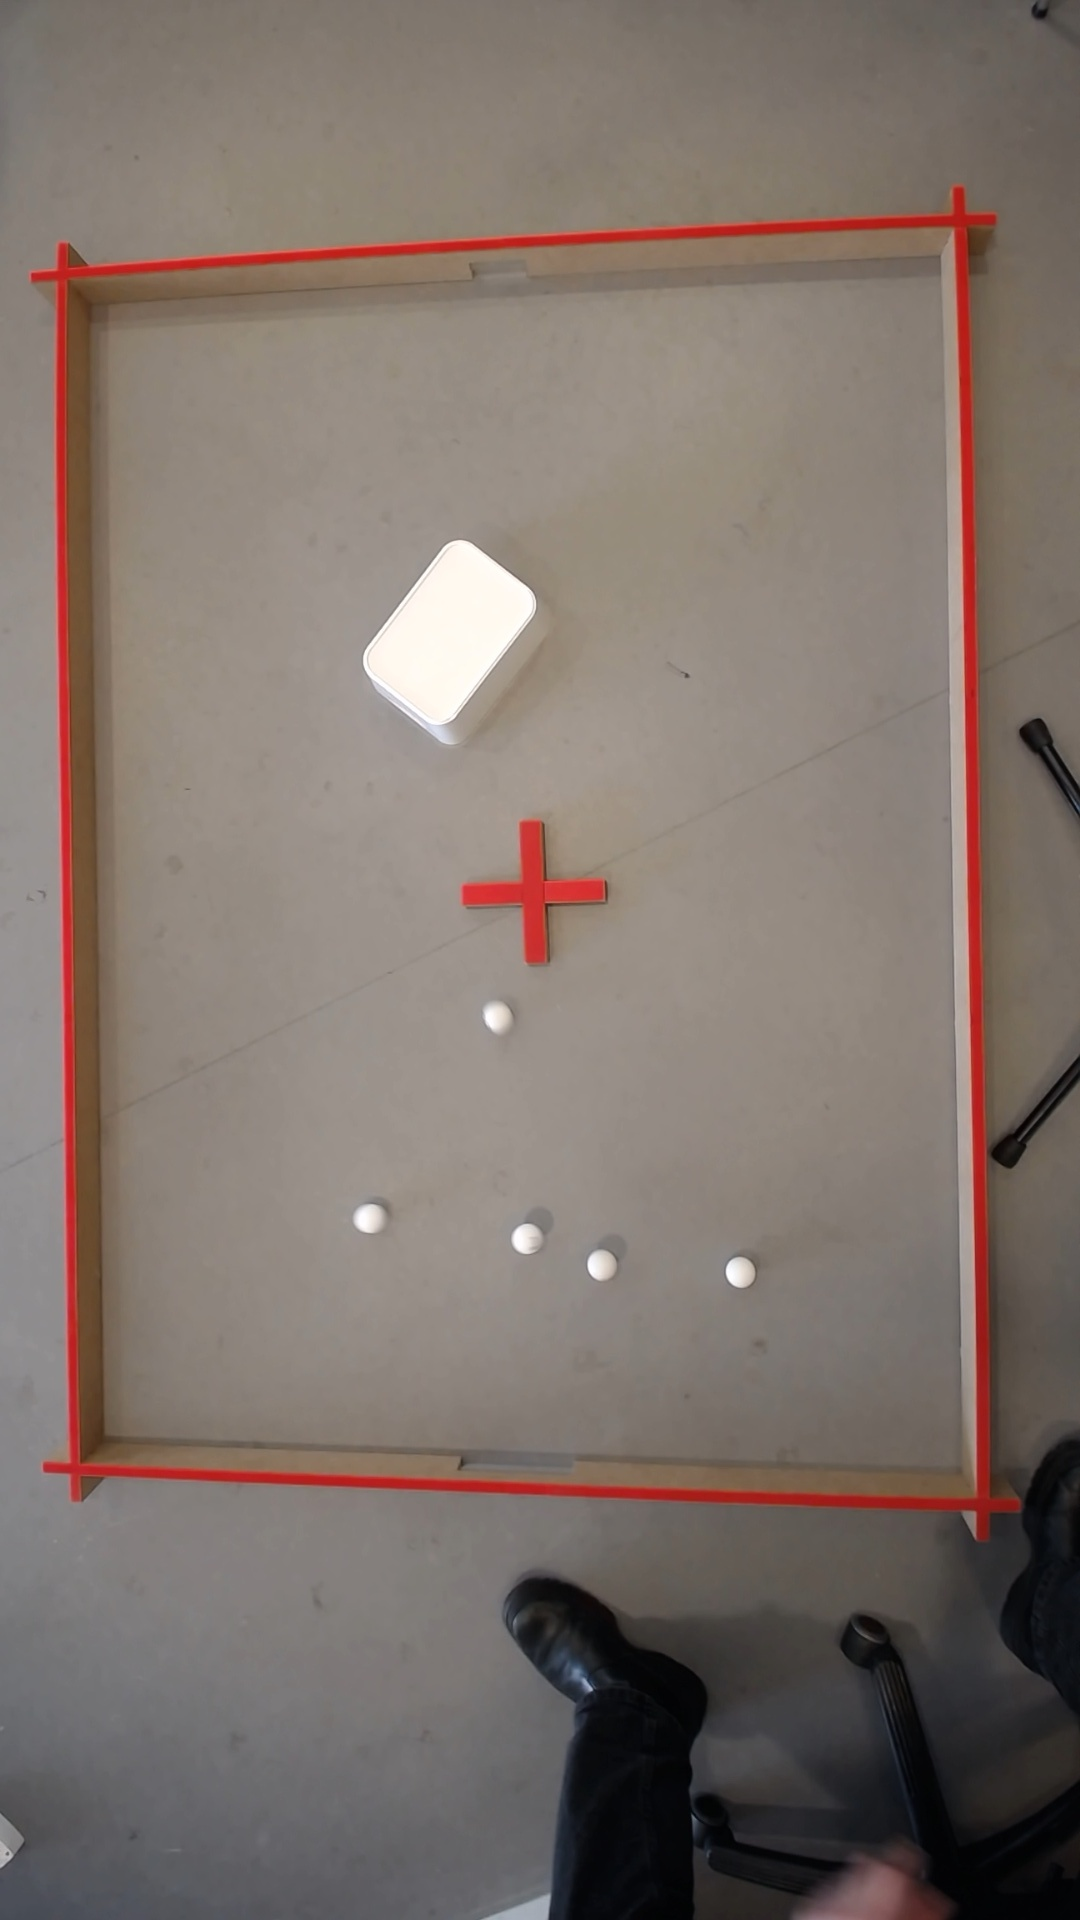balls: (351, 529, 545, 733), (348, 1197, 384, 1236), (506, 1218, 539, 1255), (720, 1255, 753, 1288), (479, 998, 510, 1033)
car: (582, 1247, 613, 1282)
